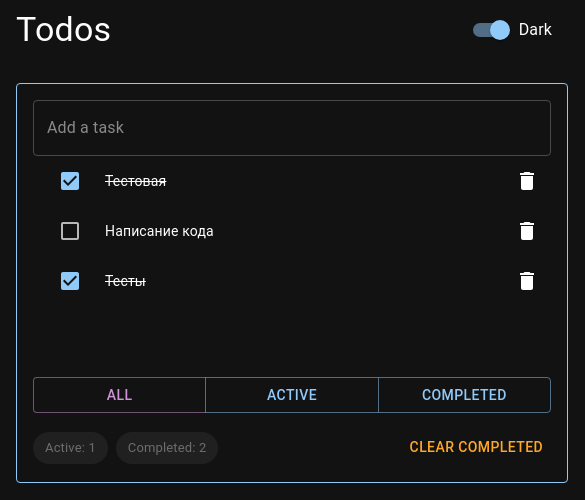
Test case: App component › clear completed todos
Click the button "Clear completed". click: (476,448)
box: [402,430,551,466]
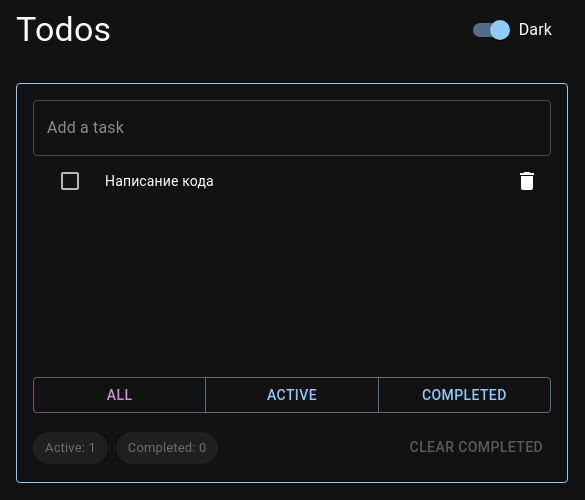
Check: the text "Тестовая" is gone
Check: the text "Тесты" is gone
